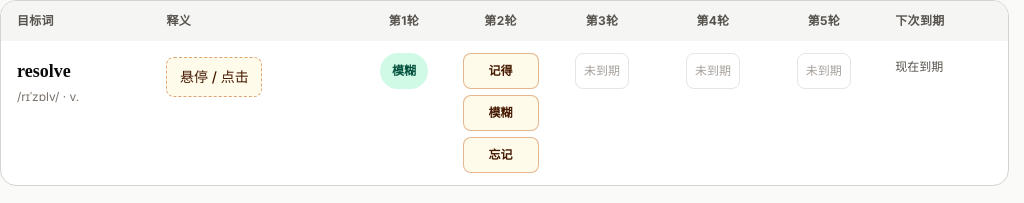
Test: StoryReviewTable › reveals a gloss without submitting mastery or changing review progress
Click the button with aria-label "显示并固定释义".
click(214, 77)  # box [166,57,262,97]
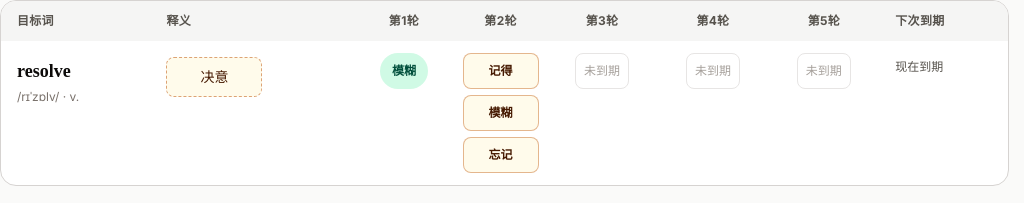
expect the cell "模糊" is shown: met, box [353,41,455,185]
expect the text "决意" is shown: met, box [200,67,228,87]
